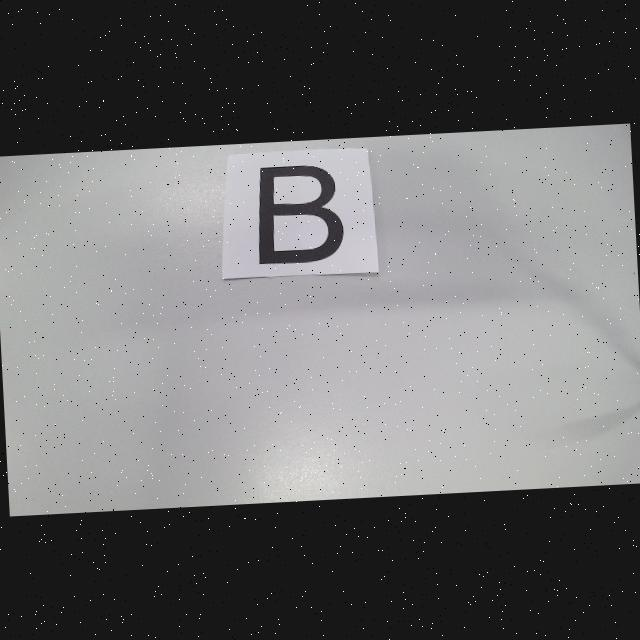FAKE: (255, 163, 346, 265)
